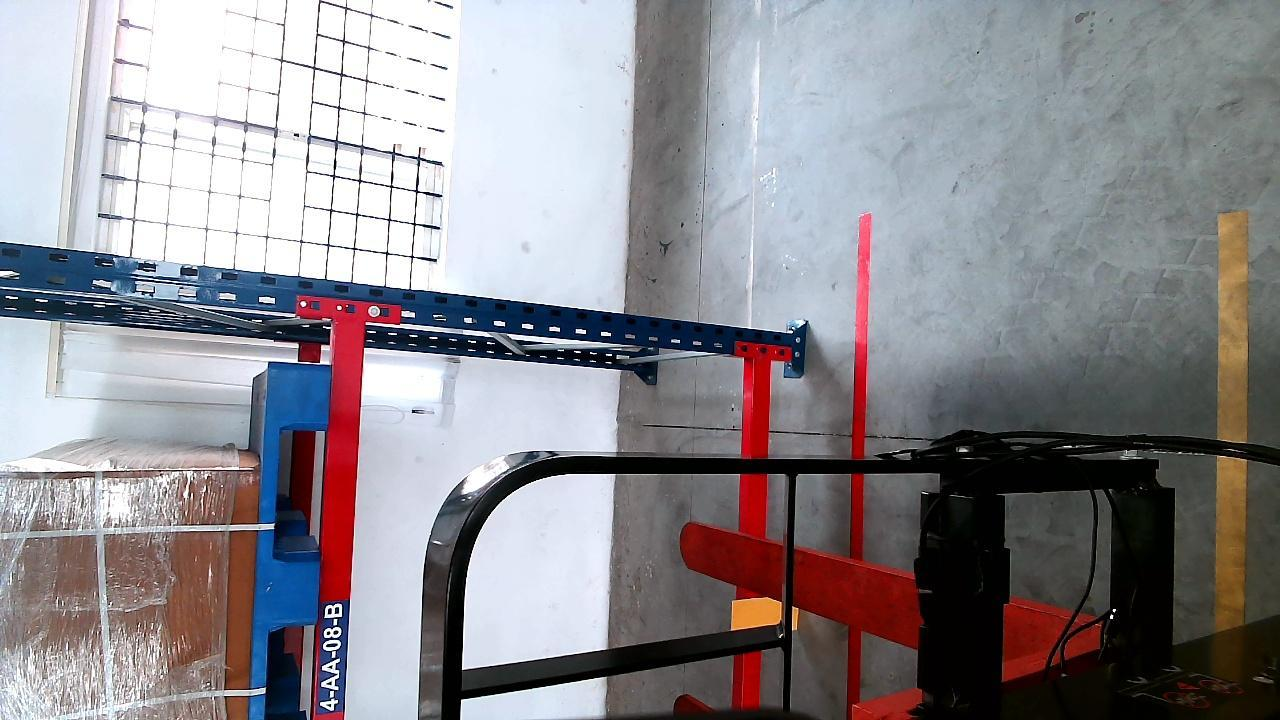red_line: (851, 214, 873, 461)
yellow_line: (1215, 205, 1248, 662)
